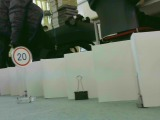speed_20: (10, 45, 33, 66)
